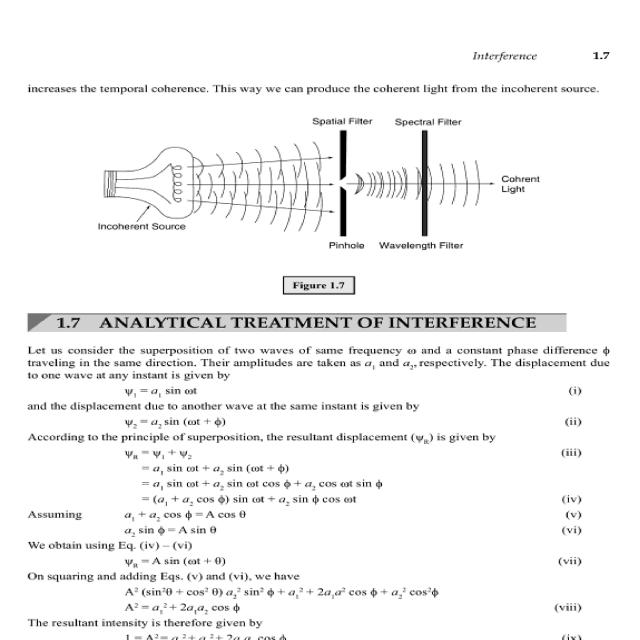diagram: (46, 104, 556, 307)
